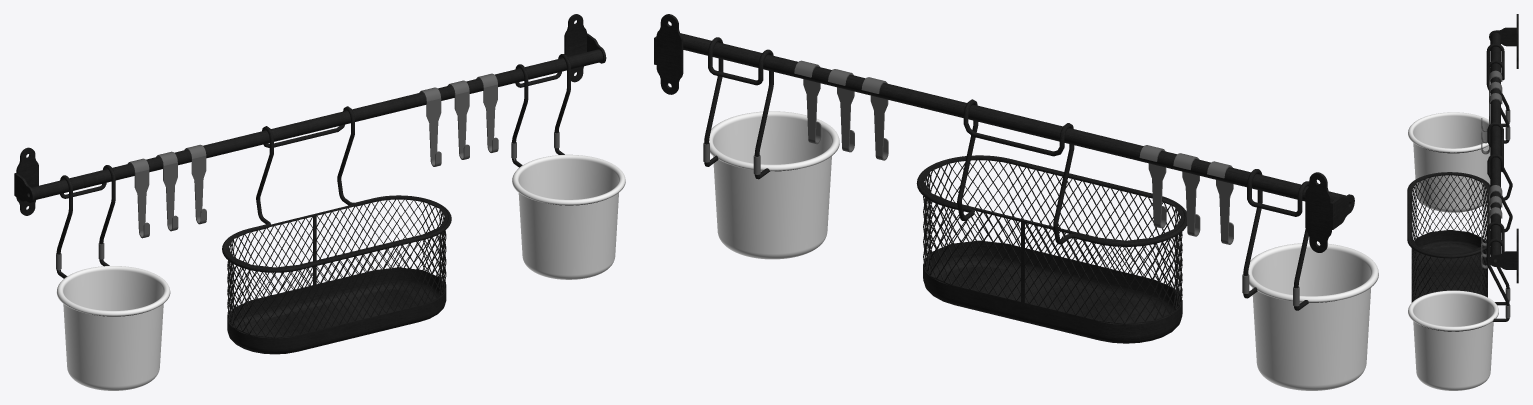
File: 094 - stand divari jadid meshki goldan sefid.glb
The picture shows the model from 3 angles, left to right: view 1: azimuth 30°, elevation 25°; view 2: azimuth 150°, elevation 25°; view 3: azimuth 270°, elevation 25°; orthographic projection. The views are drawn at different scales.
Parts seen in each view (by area): view 1: Group#5 [142245], Group#10 [188453], Group#30 [186821], Group#17 [142244], Group#2 [187643], Group#4 [215475] (×4), Group#28 [186832], [126719] (×2), Group#1 [215474] (×2), Group#25 [186834], [141697], [140803]; view 2: Group#30 [186821], Group#10 [188453], Group#17 [142244], Group#5 [142245], Group#2 [187643], Group#4 [215475] (×4), Group#28 [186832], [126719] (×2), Group#1 [215474] (×2), [141697], [140803], Group#25 [186834]; view 3: Group#10 [188453], Group#30 [186821], Group#5 [142245], Group#17 [142244], Group#2 [187643], [126719] (×2), Group#28 [186832], Group#159 [142233] (×2), Group#4 [215475] (×4), Group#25 [186834], Group#1 [215474] (×2), [140803].
Boxes of the visible parts, <box> form: Group#5 [142245]: <box>227,197,446,338</box>; Group#10 [188453]: <box>512,154,625,279</box>; Group#30 [186821]: <box>56,266,170,390</box>; Group#17 [142244]: <box>227,268,446,354</box>; Group#2 [187643]: <box>31,49,603,199</box>; Group#4 [215475] (×4): <box>127,73,498,238</box>; Group#28 [186832]: <box>222,106,451,272</box>; [126719] (×2): <box>56,54,602,316</box>; Group#1 [215474] (×2): <box>156,144,206,231</box>; Group#25 [186834]: <box>225,196,448,268</box>; [141697]: <box>564,14,586,82</box>; [140803]: <box>16,147,38,215</box>; Group#30 [186821]: <box>1248,243,1378,390</box>; Group#10 [188453]: <box>709,111,839,259</box>; Group#17 [142244]: <box>923,242,1182,343</box>; Group#5 [142245]: <box>923,157,1182,324</box>; Group#2 [187643]: <box>680,33,1345,201</box>; Group#4 [215475] (×4): <box>794,60,1233,244</box>; Group#28 [186832]: <box>916,99,1186,246</box>; [126719] (×2): <box>704,37,1336,310</box>; Group#1 [215474] (×2): <box>1139,145,1200,236</box>; [141697]: <box>656,14,683,94</box>; [140803]: <box>1305,172,1331,252</box>; Group#25 [186834]: <box>921,156,1184,241</box>; Group#10 [188453]: <box>1408,290,1498,390</box>; Group#30 [186821]: <box>1408,112,1490,212</box>; Group#5 [142245]: <box>1411,173,1487,299</box>; Group#17 [142244]: <box>1411,230,1487,302</box>; Group#2 [187643]: <box>1490,32,1500,261</box>; [126719] (×2): <box>1421,43,1509,331</box>; Group#28 [186832]: <box>1407,122,1512,258</box>; Group#159 [142233] (×2): <box>1489,27,1518,269</box>; Group#4 [215475] (×4): <box>1481,70,1502,268</box>; Group#25 [186834]: <box>1410,173,1489,254</box>; Group#1 [215474] (×2): <box>1481,81,1502,154</box>; [140803]: <box>1516,14,1518,68</box>.
Size of the model in its own units: 0.806 by 0.2792 by 0.1691.
Materials: 5 (3 with a texture image).
